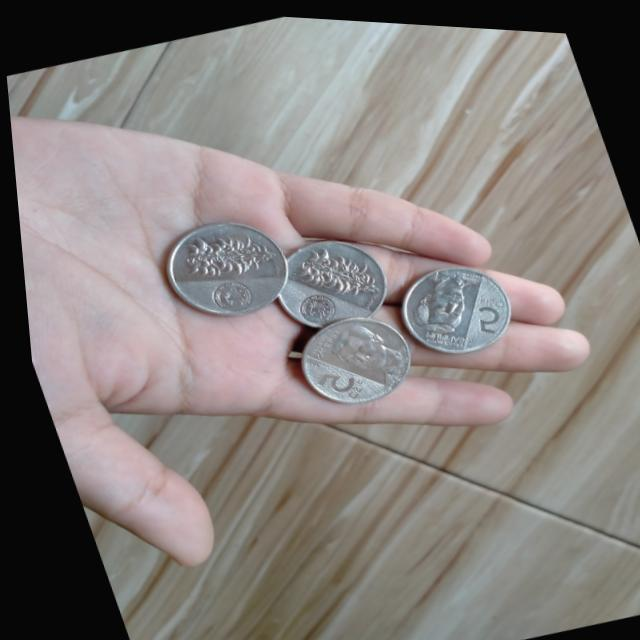5_New_Back: (283, 223, 391, 313), (163, 213, 278, 294)
5_New_Front: (293, 346, 378, 413), (450, 276, 527, 339)
